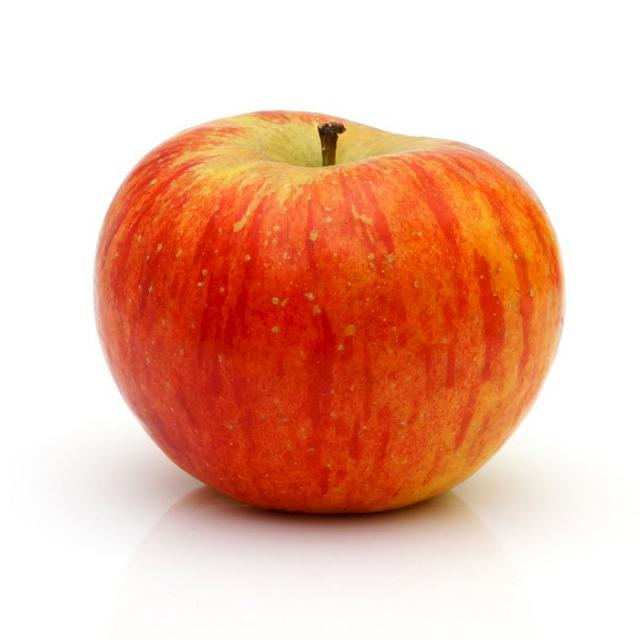Apple: (92, 111, 567, 518)
